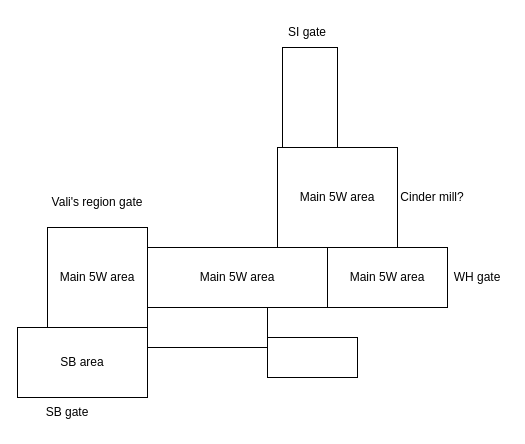
The diagram is 525 pixels wide and 444 high, and some of its shapes have lost their labels. The centre of each missing label's shape, as x and y in pixels:
"Hi like region gate" goes at (x=312, y=357).
"Sunlit walkway" goes at (x=310, y=97).
"Surface trains" goes at (x=207, y=327).
